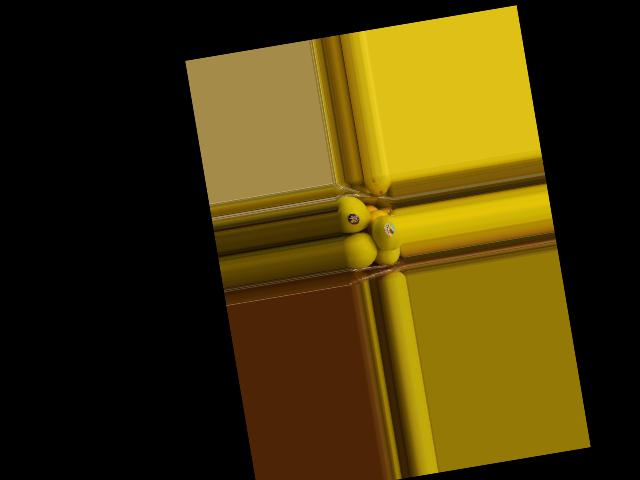apple: (369, 209, 402, 254)
